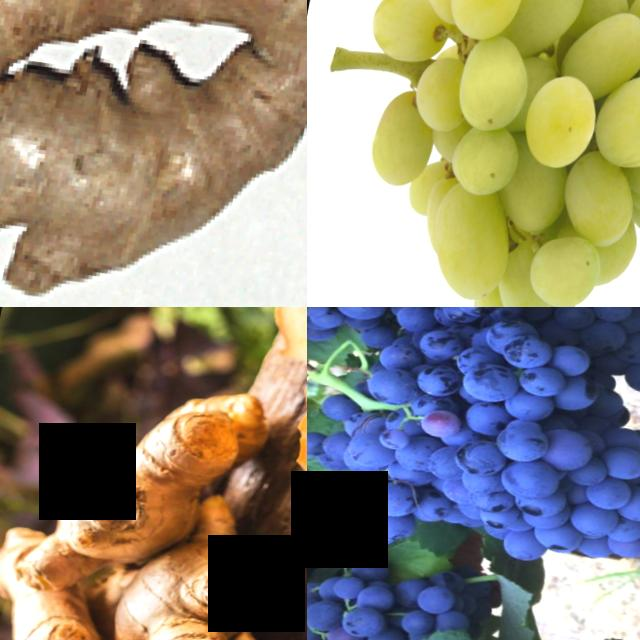ginger: (0, 0, 307, 307), (33, 360, 265, 580), (102, 532, 276, 640), (0, 523, 142, 640)
grapes: (338, 0, 640, 307), (330, 383, 640, 610), (347, 307, 615, 443), (307, 550, 475, 640)
